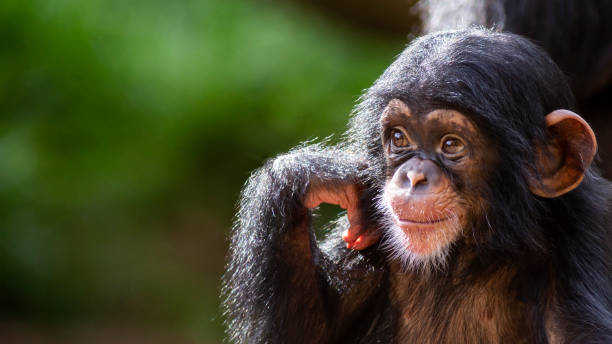chimpanzee: (317, 19, 612, 314)
